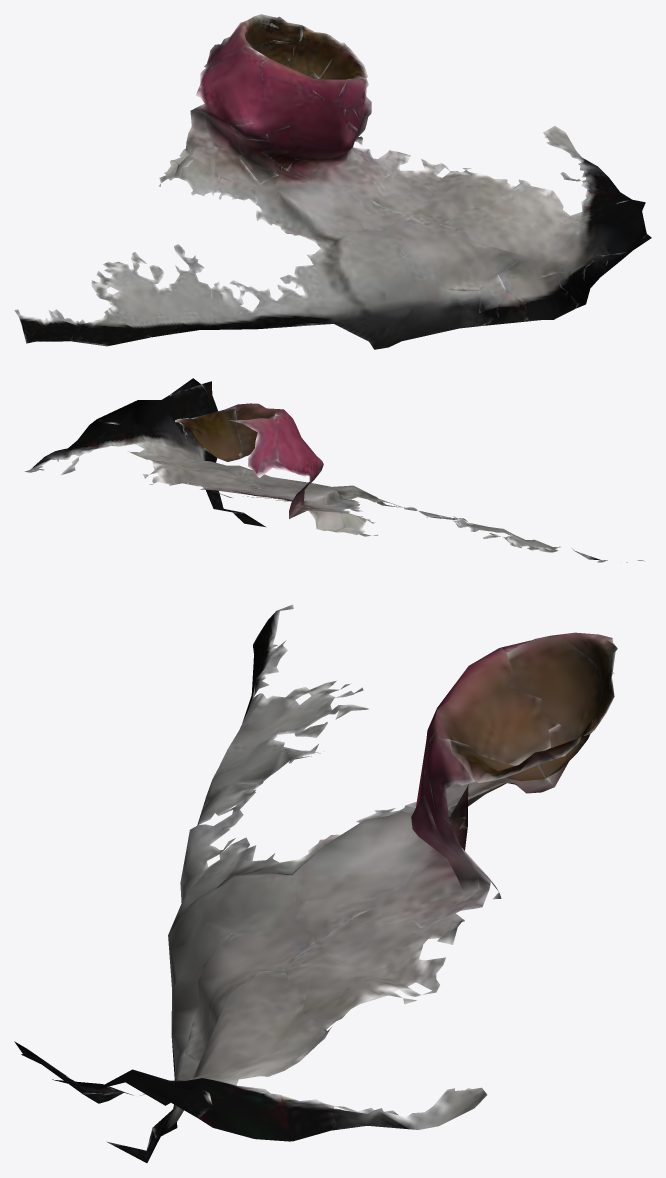
Rendered from hall.glb.
3 views of the same model, one above another, from view 1: azimuth 30°, elevation 25°; view 2: azimuth 150°, elevation 25°; view 3: azimuth 270°, elevation 25° (orthographic). The views are drawn at different scales.
Size of the model in its own units: 0.6784 by 0.261 by 0.3758.
Materials: 1 (1 with a texture image).
